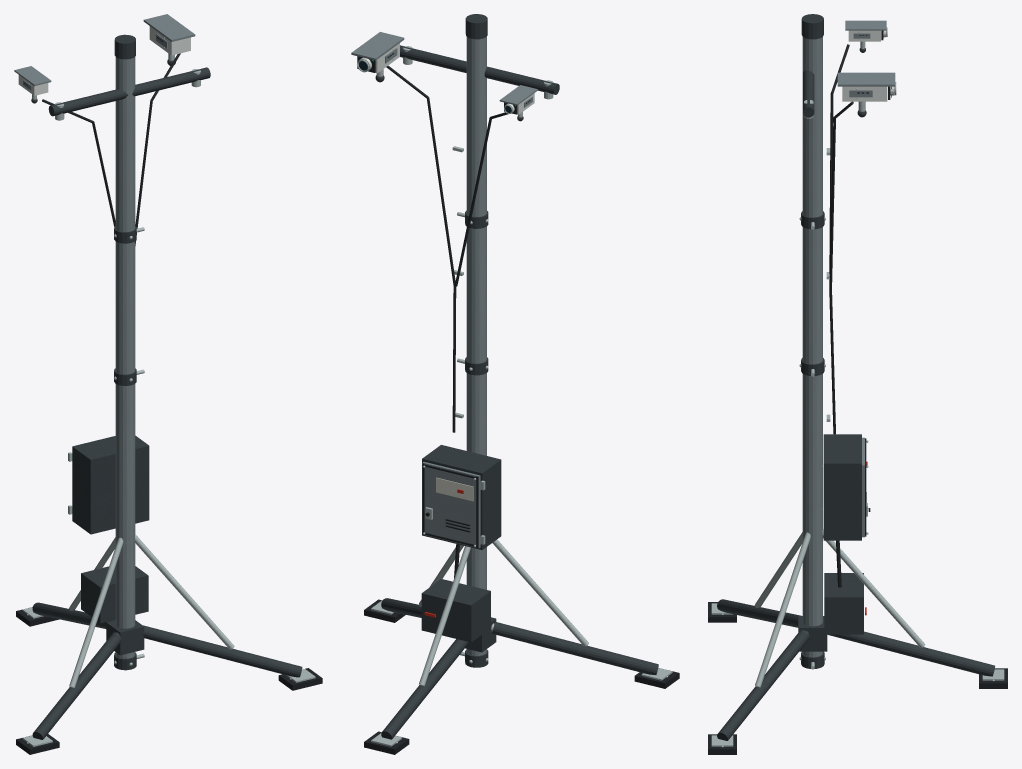
3 renders of one model, left to right at view 1: azimuth 30°, elevation 25°; view 2: azimuth 150°, elevation 25°; view 3: azimuth 270°, elevation 25°, orthographic. The views are drawn at different scales.
Visible parts, largest first — view 1: VIS_TELESCOPIC_MAST__POWDER_GREY, VIS_RECORDER_HOUSING__POWDER_DARK, VIS_TRIPOD_LEGS__POWDER_DARK, VIS_TRIPOD_BRACING__STAINLESS, VIS_ELECTRICAL_BATTERY__POWDER_DARK, VIS_CAMERA_CROSSARM__POWDER_DARK, VIS_FOOT_PADS__RUBBER, VIS_CABLES__RUBBER, VIS_TRIPOD_CENTER__POWDER_DARK, VIS_BULLET_CAMERA__POWDER_GREY, VIS_ADJUSTING_COLLARS__POWDER_DARK; view 2: VIS_TELESCOPIC_MAST__POWDER_GREY, VIS_TRIPOD_LEGS__POWDER_DARK, VIS_RECORDER_DOOR__POWDER_GREY, VIS_ELECTRICAL_BATTERY__POWDER_DARK, VIS_RECORDER_HOUSING__POWDER_DARK, VIS_TRIPOD_BRACING__STAINLESS, VIS_CABLES__RUBBER, VIS_CAMERA_CROSSARM__POWDER_DARK, VIS_FOOT_PADS__RUBBER, VIS_BULLET_CAMERA__POWDER_GREY, VIS_ADJUSTING_COLLARS__POWDER_DARK, VIS_RECORDER_GASKET__RUBBER (+2 smaller); view 3: VIS_TELESCOPIC_MAST__POWDER_GREY, VIS_TRIPOD_LEGS__POWDER_DARK, VIS_RECORDER_HOUSING__POWDER_DARK, VIS_TRIPOD_BRACING__STAINLESS, VIS_ELECTRICAL_BATTERY__POWDER_DARK, VIS_CABLES__RUBBER, VIS_BULLET_CAMERA__POWDER_GREY, VIS_FOOT_PADS__RUBBER, VIS_ADJUSTING_COLLARS__POWDER_DARK, VIS_TRIPOD_CENTER__POWDER_DARK, VIS_BULLET_CAMERA__CAMERA_WHITE, VIS_PTZ__POWDER_GREY (+3 smaller).
Part boxes in pixels (left/top/right/bottom): VIS_TELESCOPIC_MAST__POWDER_GREY: left=115, top=57, right=135, bottom=658; VIS_RECORDER_HOUSING__POWDER_DARK: left=72, top=435, right=149, bottom=534; VIS_TRIPOD_LEGS__POWDER_DARK: left=32, top=602, right=302, bottom=739; VIS_TRIPOD_BRACING__STAINLESS: left=69, top=534, right=234, bottom=687; VIS_ELECTRICAL_BATTERY__POWDER_DARK: left=81, top=566, right=148, bottom=623; VIS_CAMERA_CROSSARM__POWDER_DARK: left=48, top=67, right=210, bottom=116; VIS_FOOT_PADS__RUBBER: left=16, top=607, right=322, bottom=754; VIS_CABLES__RUBBER: left=42, top=53, right=180, bottom=245; VIS_TRIPOD_CENTER__POWDER_DARK: left=106, top=620, right=144, bottom=655; VIS_BULLET_CAMERA__POWDER_GREY: left=143, top=14, right=195, bottom=48; VIS_ADJUSTING_COLLARS__POWDER_DARK: left=114, top=226, right=136, bottom=670; VIS_TELESCOPIC_MAST__POWDER_GREY: left=466, top=36, right=486, bottom=655; VIS_TRIPOD_LEGS__POWDER_DARK: left=381, top=598, right=658, bottom=739; VIS_RECORDER_DOOR__POWDER_GREY: left=422, top=462, right=480, bottom=548; VIS_ELECTRICAL_BATTERY__POWDER_DARK: left=421, top=579, right=490, bottom=642; VIS_RECORDER_HOUSING__POWDER_DARK: left=422, top=445, right=501, bottom=549; VIS_TRIPOD_BRACING__STAINLESS: left=419, top=539, right=588, bottom=685; VIS_CABLES__RUBBER: left=386, top=65, right=508, bottom=578; VIS_CAMERA_CROSSARM__POWDER_DARK: left=400, top=45, right=559, bottom=94; VIS_FOOT_PADS__RUBBER: left=364, top=599, right=679, bottom=754; VIS_BULLET_CAMERA__POWDER_GREY: left=351, top=32, right=404, bottom=63; VIS_ADJUSTING_COLLARS__POWDER_DARK: left=465, top=210, right=488, bottom=667; VIS_RECORDER_GASKET__RUBBER: left=422, top=463, right=478, bottom=548; VIS_TELESCOPIC_MAST__POWDER_GREY: left=802, top=37, right=822, bottom=657; VIS_TRIPOD_LEGS__POWDER_DARK: left=717, top=599, right=995, bottom=740; VIS_RECORDER_HOUSING__POWDER_DARK: left=823, top=434, right=861, bottom=540; VIS_TRIPOD_BRACING__STAINLESS: left=754, top=529, right=925, bottom=687; VIS_ELECTRICAL_BATTERY__POWDER_DARK: left=824, top=573, right=863, bottom=634; VIS_CABLES__RUBBER: left=829, top=44, right=853, bottom=587; VIS_BULLET_CAMERA__POWDER_GREY: left=837, top=72, right=895, bottom=97; VIS_FOOT_PADS__RUBBER: left=708, top=602, right=1007, bottom=754; VIS_ADJUSTING_COLLARS__POWDER_DARK: left=801, top=211, right=824, bottom=668; VIS_TRIPOD_CENTER__POWDER_DARK: left=798, top=616, right=827, bottom=651; VIS_BULLET_CAMERA__CAMERA_WHITE: left=842, top=86, right=894, bottom=101; VIS_PTZ__POWDER_GREY: left=845, top=20, right=886, bottom=38.
Bounding box in the file's own units: 2.55 × 5.34 × 2.19.
Materials: 9 (9 with a texture image).
